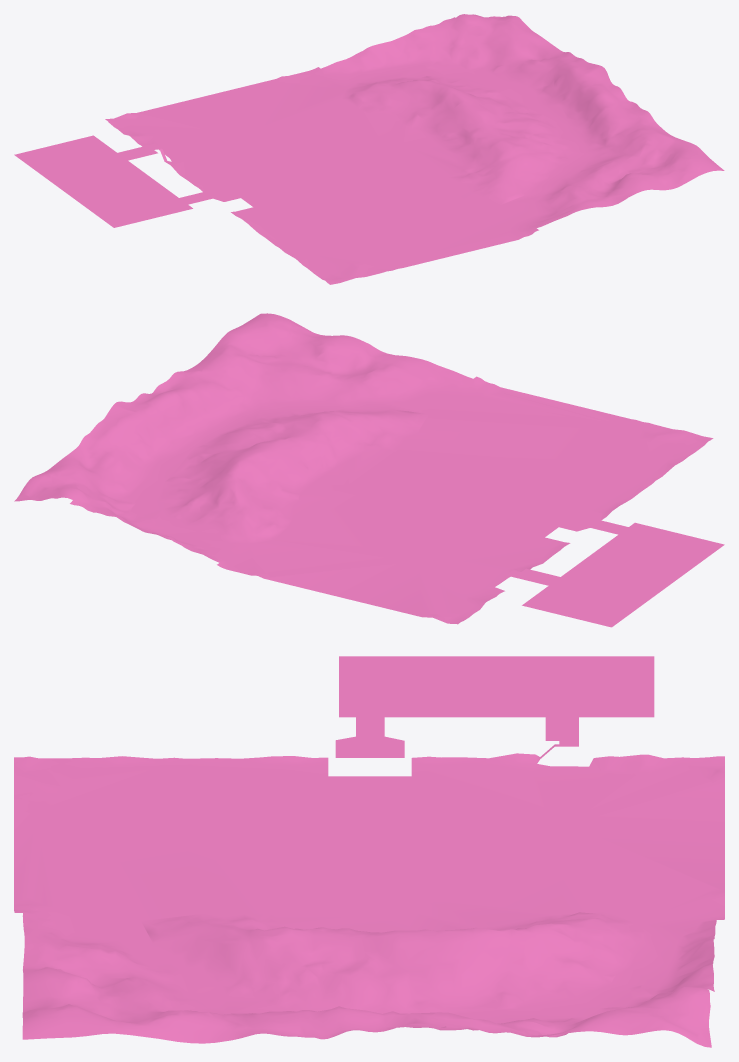
The model's file is navmesh.glb.
3 views of the same model, one above another, from view 1: azimuth 30°, elevation 25°; view 2: azimuth 150°, elevation 25°; view 3: azimuth 270°, elevation 25° (orthographic). The views are drawn at different scales.
Visible parts, largest first — view 1: FloorPLanExport; view 2: FloorPLanExport; view 3: FloorPLanExport.
Boxes of the visible parts, box(x1,y1,x2,y2) form: FloorPLanExport: box(14, 14, 724, 284); FloorPLanExport: box(14, 313, 724, 627); FloorPLanExport: box(14, 656, 724, 1047).
Size of the model in its own units: 106 by 5.46 by 80.52.
